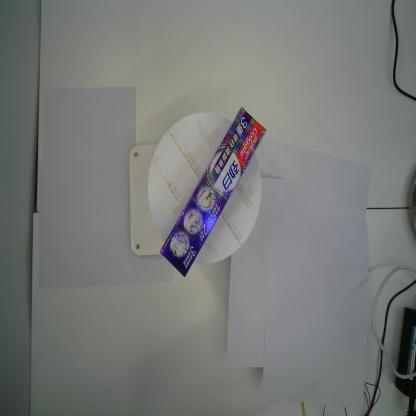Personal Hygiene: (158, 104, 269, 279)
